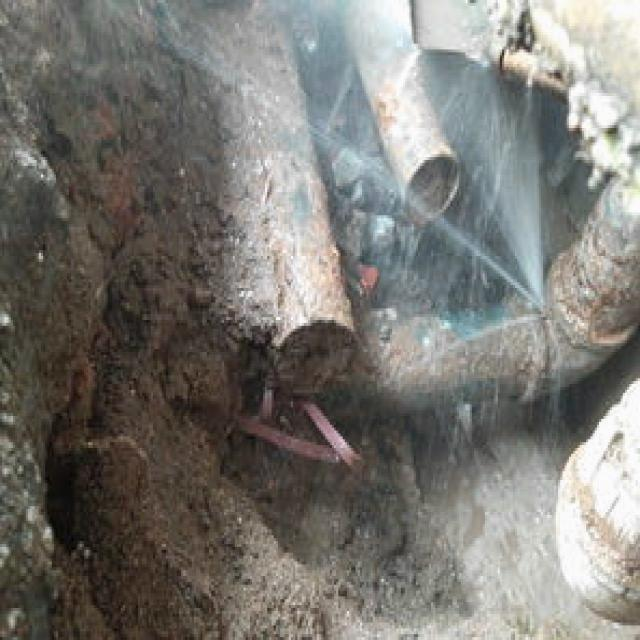pipe burst: (96, 0, 554, 325)
water accumulation: (410, 399, 634, 635)
